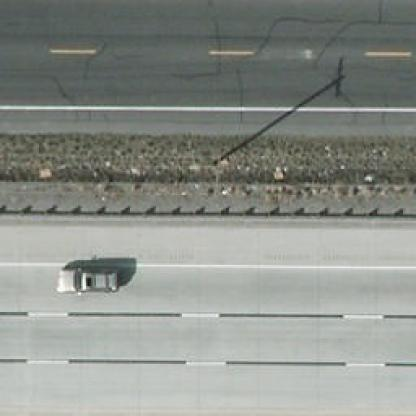car: (56, 268, 121, 294)
